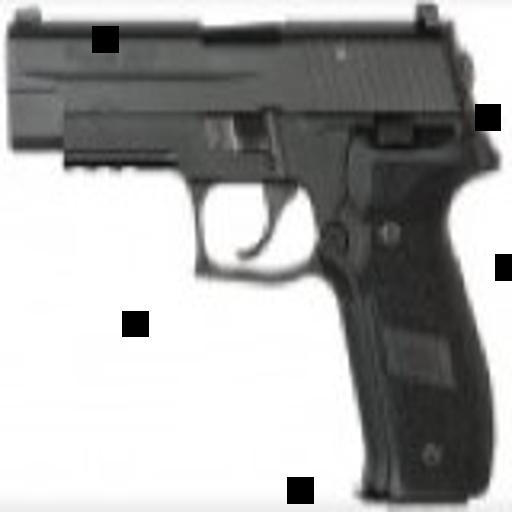Handgun: (5, 3, 501, 506)
